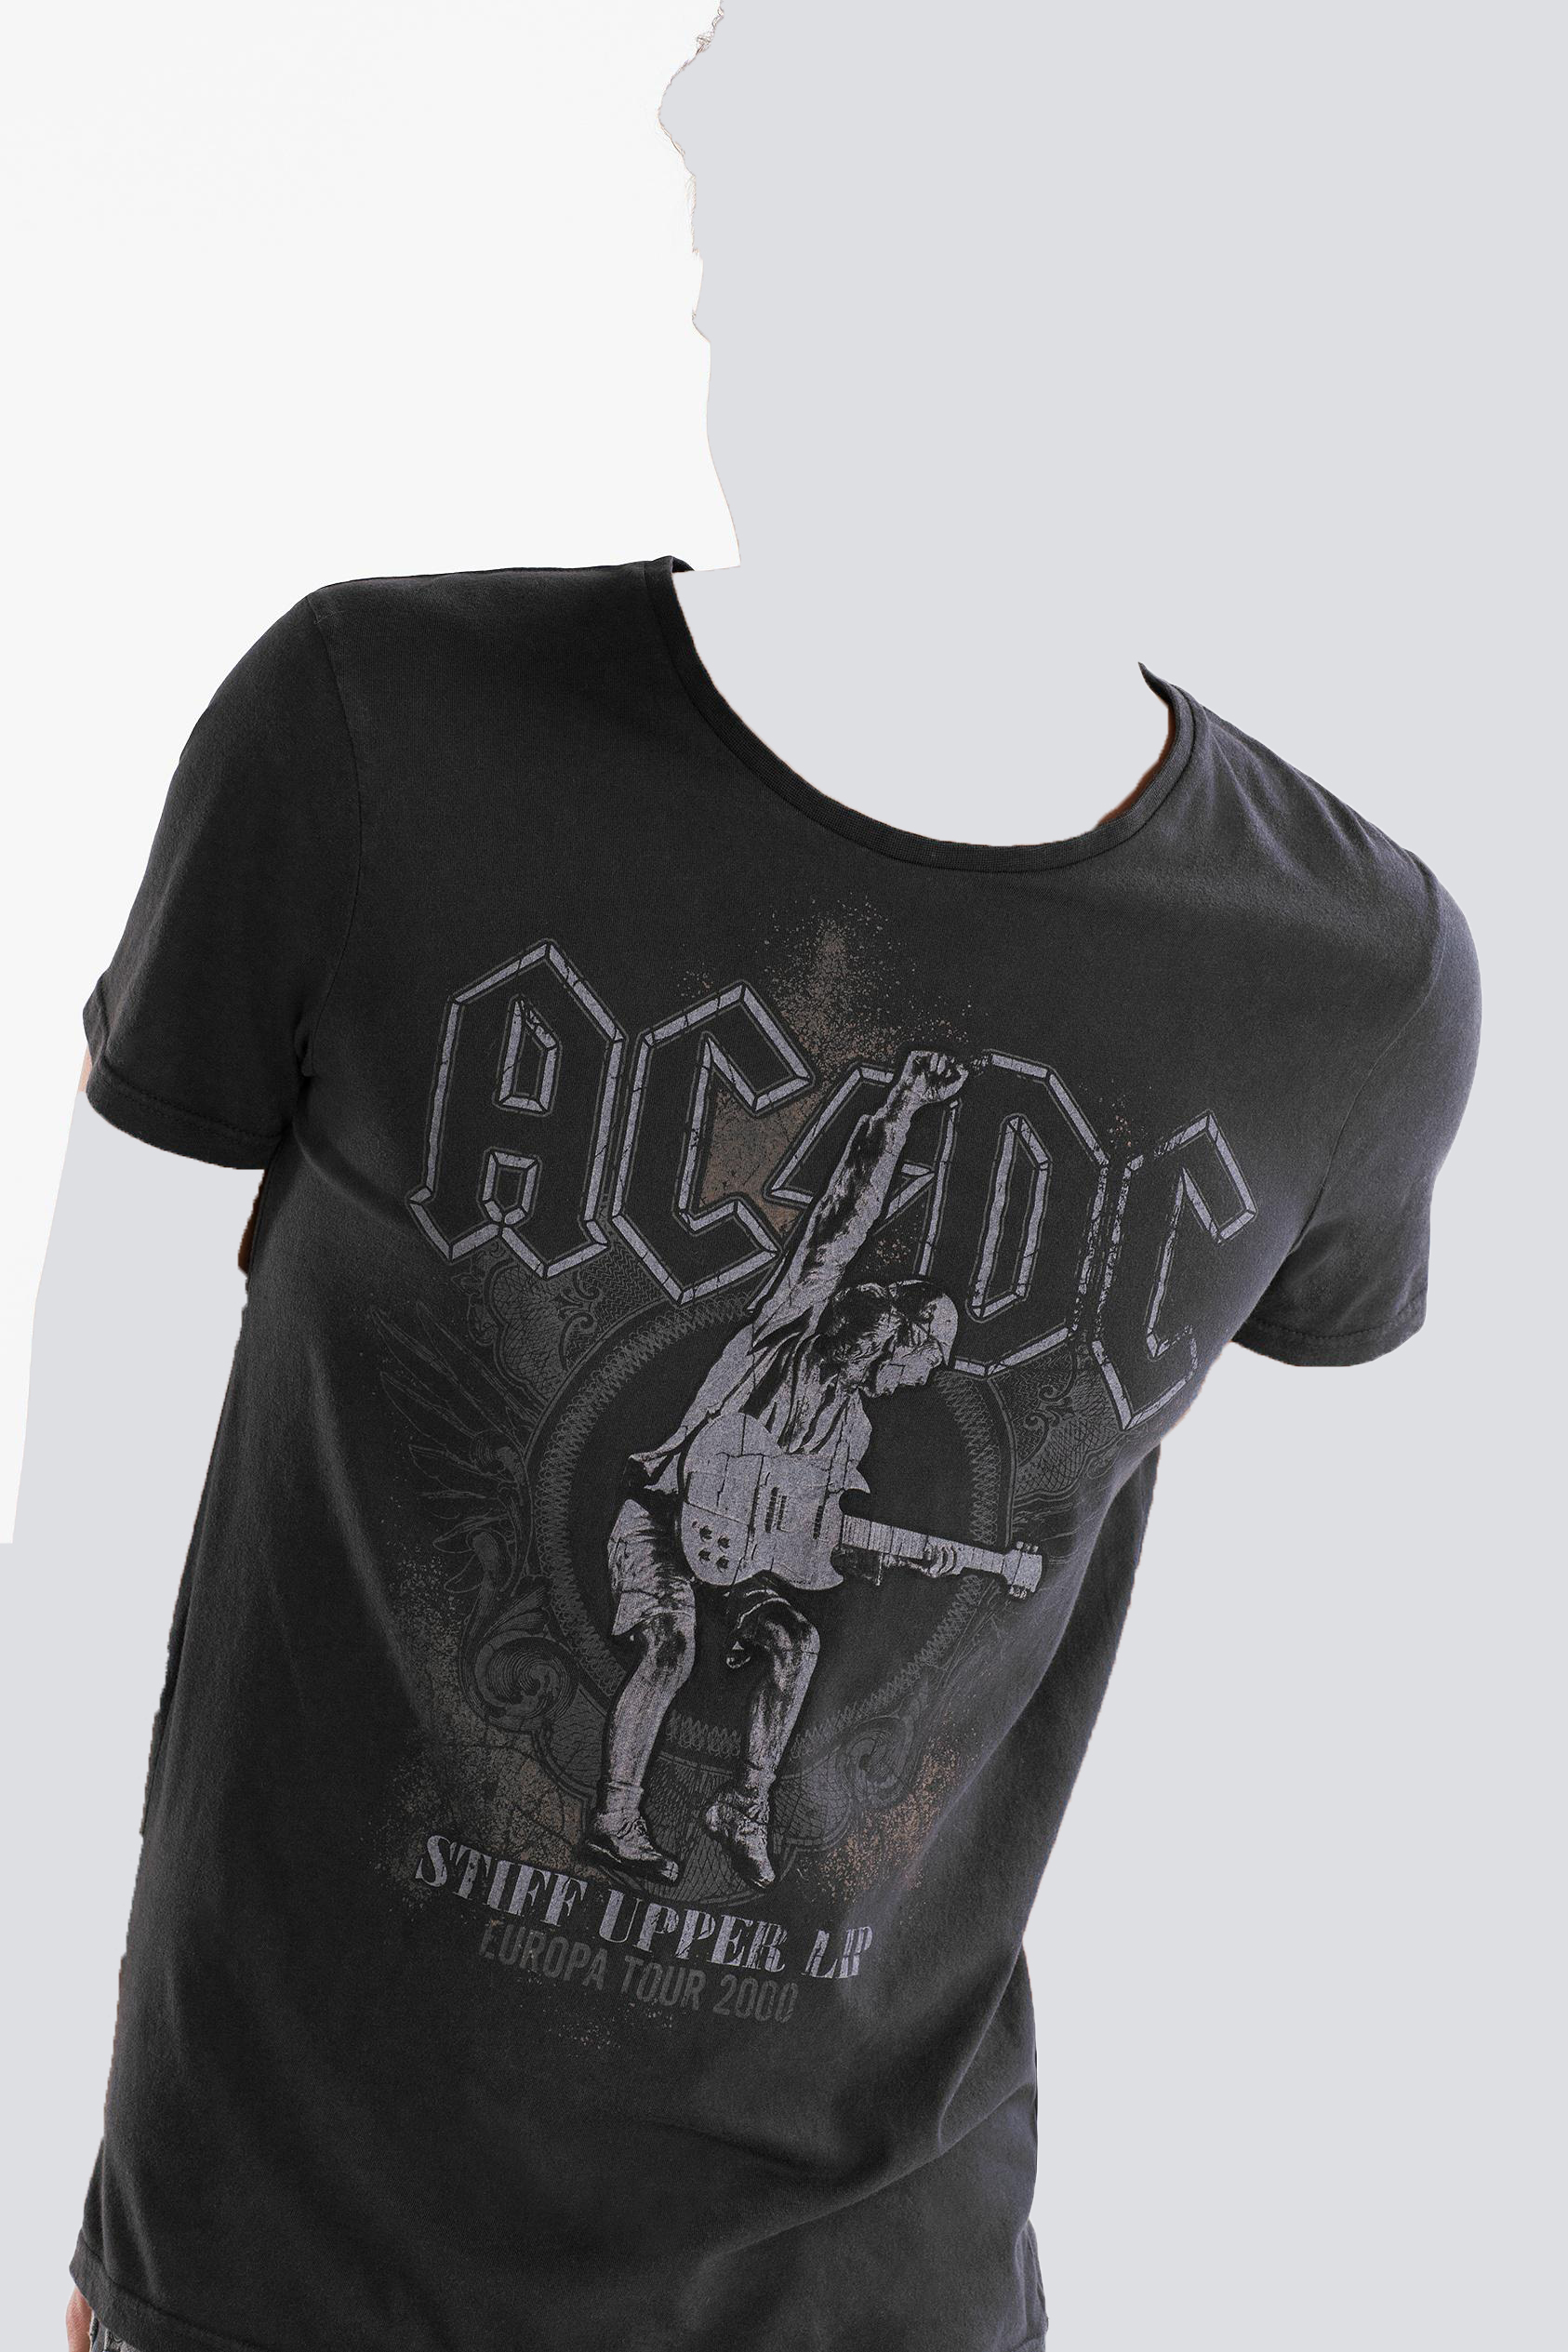teeshirt: (59, 532, 1489, 2348)
